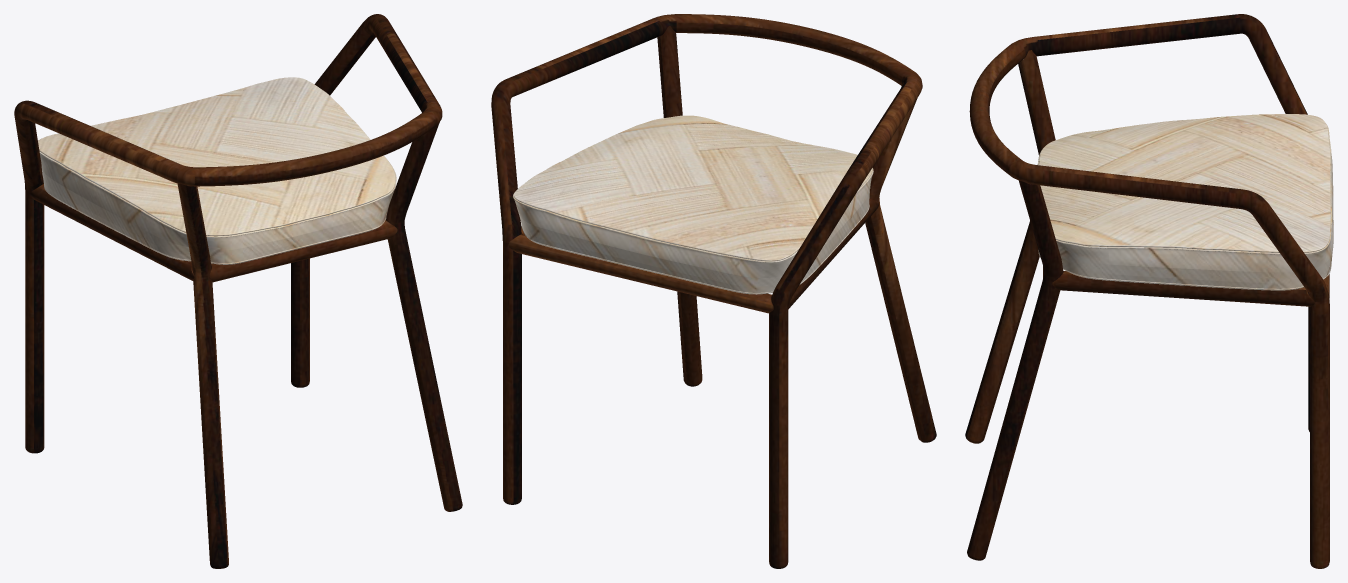
The model's file is meeting-chair.glb.
3 renders of one model, left to right at view 1: azimuth 30°, elevation 25°; view 2: azimuth 150°, elevation 25°; view 3: azimuth 270°, elevation 25°, orthographic. The views are drawn at different scales.
Parts seen in each view (by area): view 1: meeting_chair (×2); view 2: meeting_chair (×2); view 3: meeting_chair (×2).
Part boxes in pixels (left/top/right/bottom): meeting_chair (×2): left=14, top=14, right=462, bottom=568; meeting_chair (×2): left=491, top=14, right=936, bottom=568; meeting_chair (×2): left=965, top=14, right=1333, bottom=568.
Bounding box in the file's own units: 3.41 × 3.41 × 2.87.
Materials: 2 (2 with a texture image).
